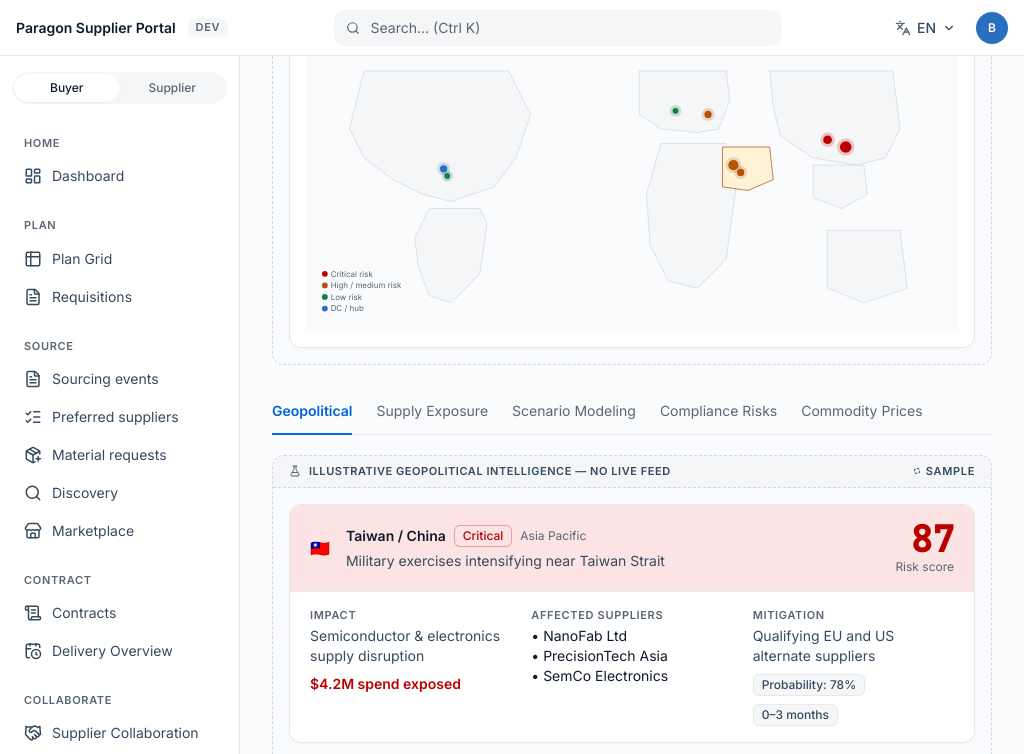
SUP-2 · Risk — a date that has passed is not "Valid" › no row reads overdue beside Valid or "no action"
(page scrolled)
Click the tab "Compliance Risks".
click(719, 412)  # box [660,389,777,435]
(page scrolled)
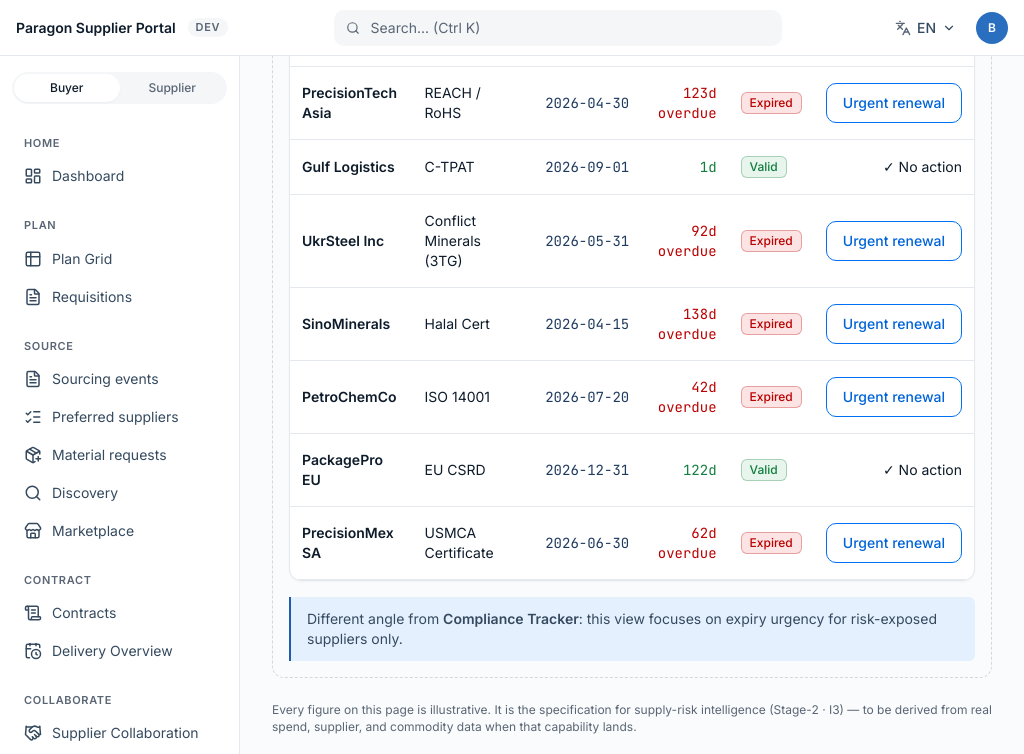
Expected: the row that starts with "PrecisionTech Asia" shows "Expired", [750,95,793,110]
Expected: the row that starts with "UkrSteel Inc" shows "Expired", [750,233,793,248]
Expected: the row that starts with "SinoMinerals" shows "Expired", [750,316,793,331]
